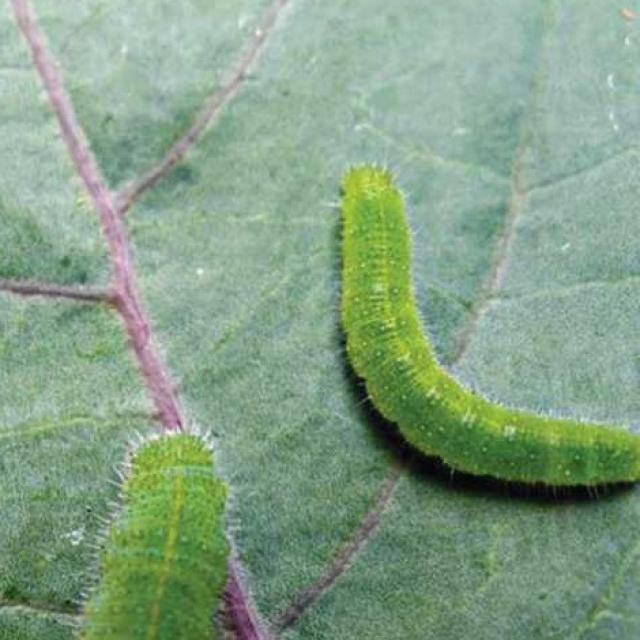Cabbage-worm: (331, 154, 640, 499), (61, 422, 256, 640)
